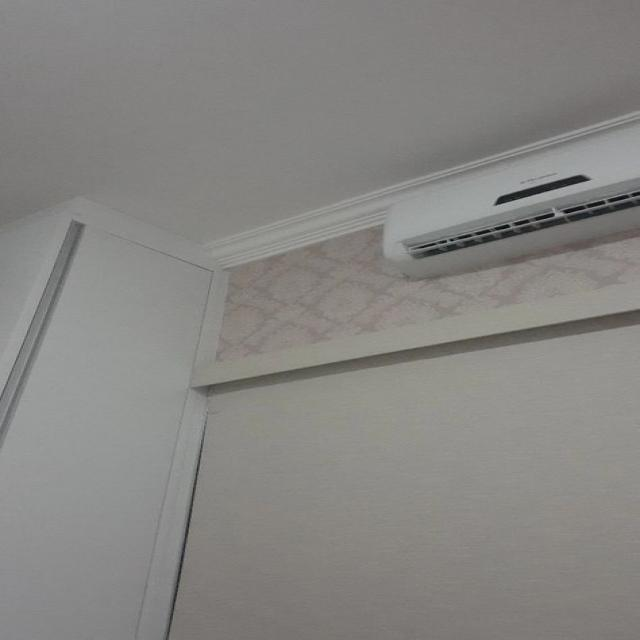AC: (381, 127, 639, 280)
